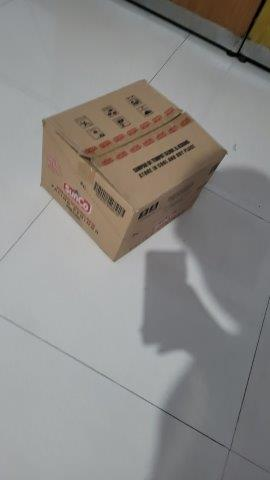kardus: (41, 80, 223, 260)
